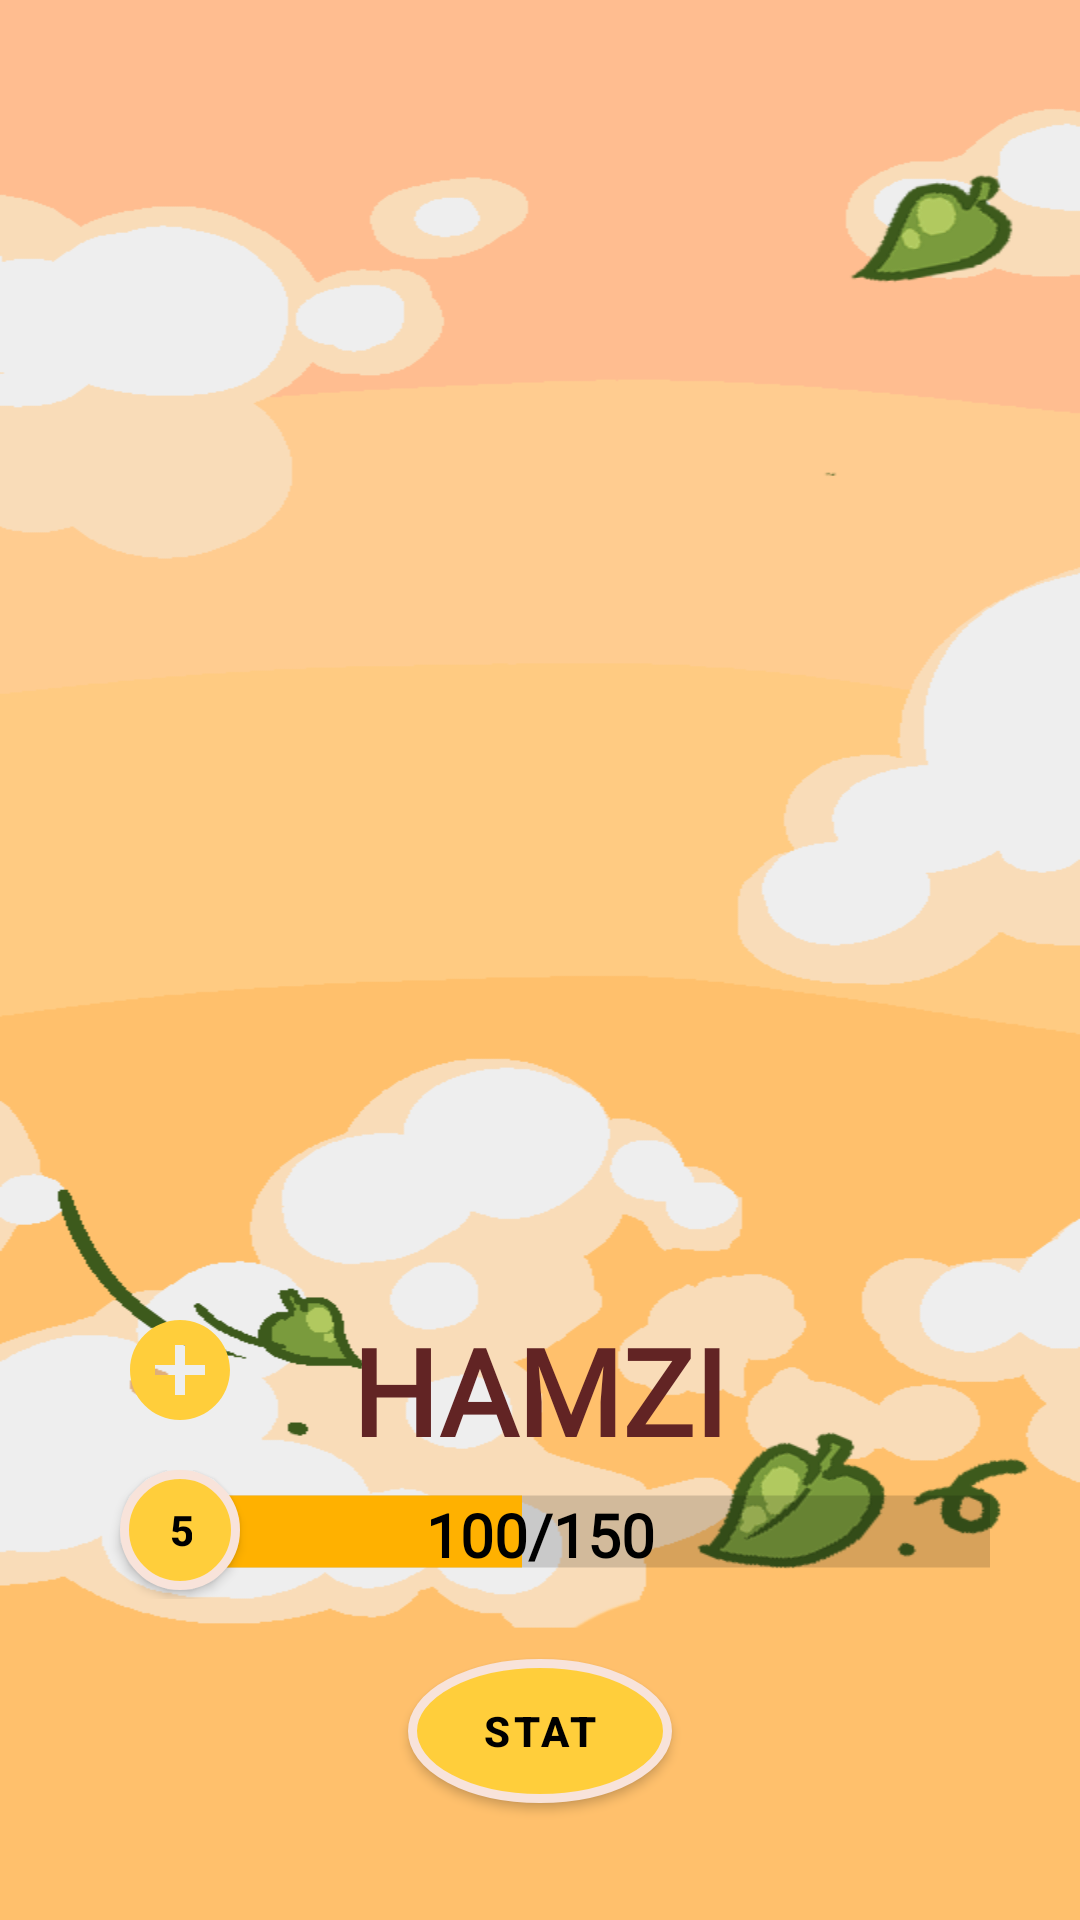

Icons on this 1080px×1920px Android screen, each with its box as [x1, y1, x2, y2]:
add: [120, 1310, 240, 1420]
